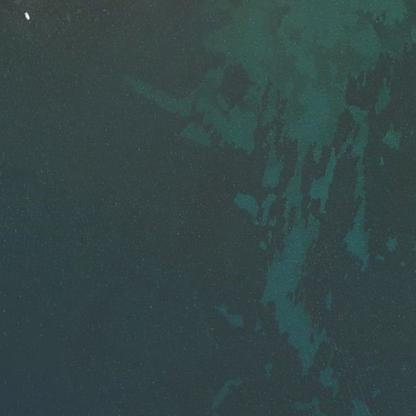ship: (22, 10, 31, 21)
